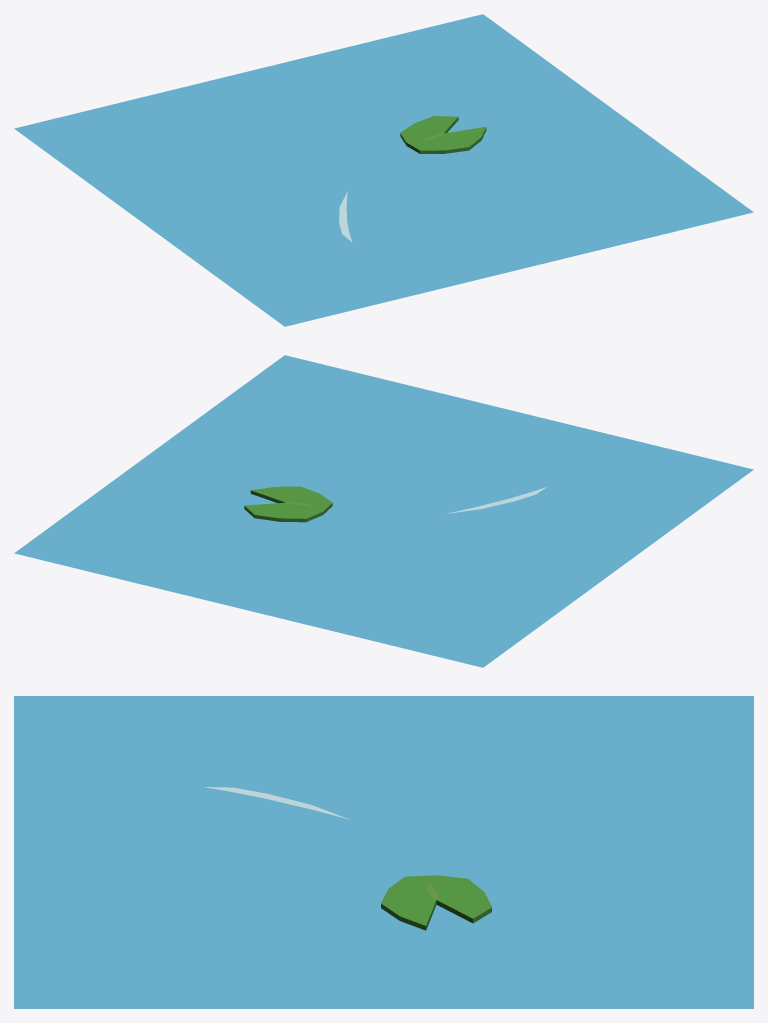
File: tile_water_b.fbx
3 renders of one model, top to bottom at view 1: azimuth 30°, elevation 25°; view 2: azimuth 150°, elevation 25°; view 3: azimuth 270°, elevation 25°, orthographic. The views are drawn at different scales.
Visible parts, largest first — view 1: tile_water_b; view 2: tile_water_b; view 3: tile_water_b.
Part boxes in pixels (left/top/right/bottom): tile_water_b: left=14, top=14, right=753, bottom=326; tile_water_b: left=14, top=355, right=753, bottom=667; tile_water_b: left=14, top=696, right=753, bottom=1008.
Size of the model in its own units: 1 by 0.0079 by 1.
